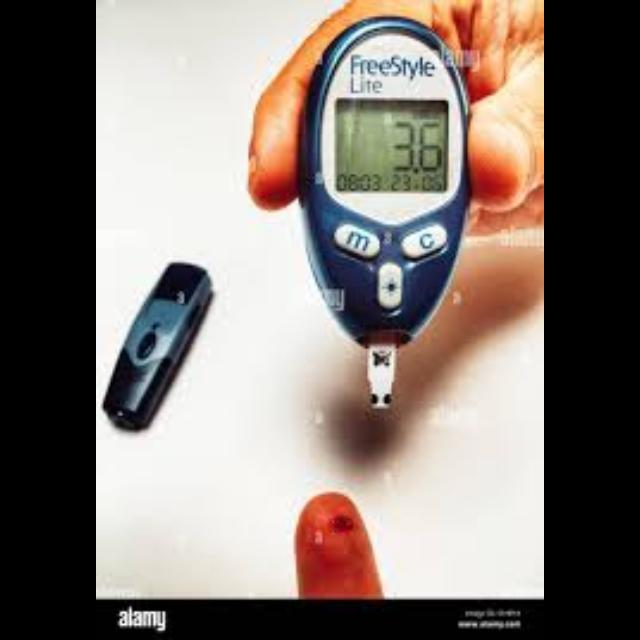Glucose-Meter: (300, 19, 470, 408)
